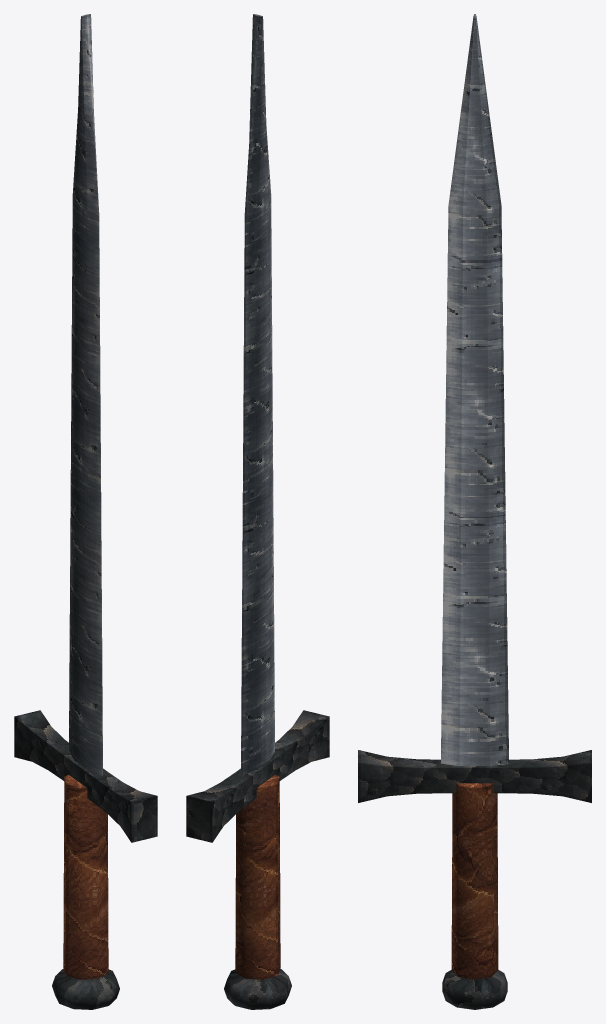
File: arming_sword.glb
The picture shows the model from 3 angles, left to right: view 1: azimuth 30°, elevation 25°; view 2: azimuth 150°, elevation 25°; view 3: azimuth 270°, elevation 25°; orthographic projection.
Visible parts, largest first — view 1: arming_sword; view 2: arming_sword; view 3: arming_sword.
Boxes of the visible parts, <box> form: arming_sword: <box>14,14,157,1009</box>; arming_sword: <box>186,14,329,1009</box>; arming_sword: <box>358,14,591,1009</box>.
Size of the model in its own units: 0.044 by 0.698 by 0.15.
Materials: 1 (1 with a texture image).
